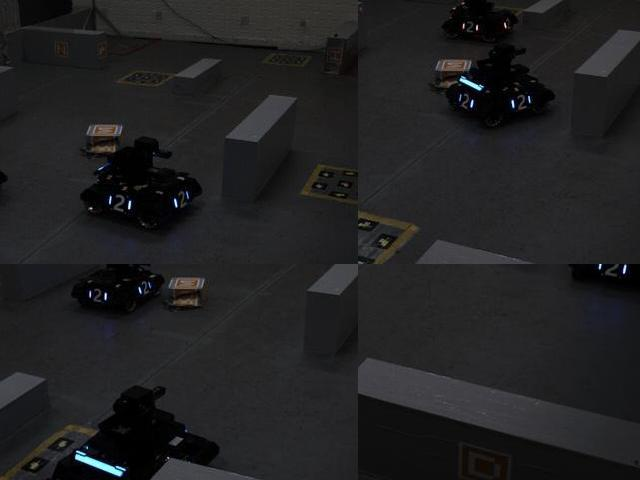armor: (107, 190, 136, 219), (167, 183, 193, 214), (507, 88, 535, 115), (594, 264, 631, 284), (455, 87, 477, 116), (85, 284, 109, 305), (456, 17, 480, 37)
